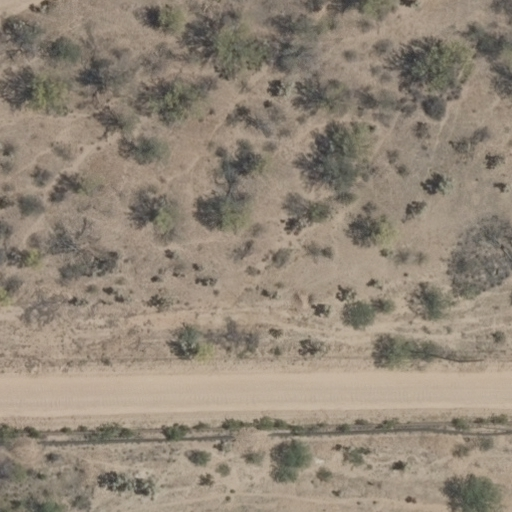DT: (454, 347, 489, 368)
